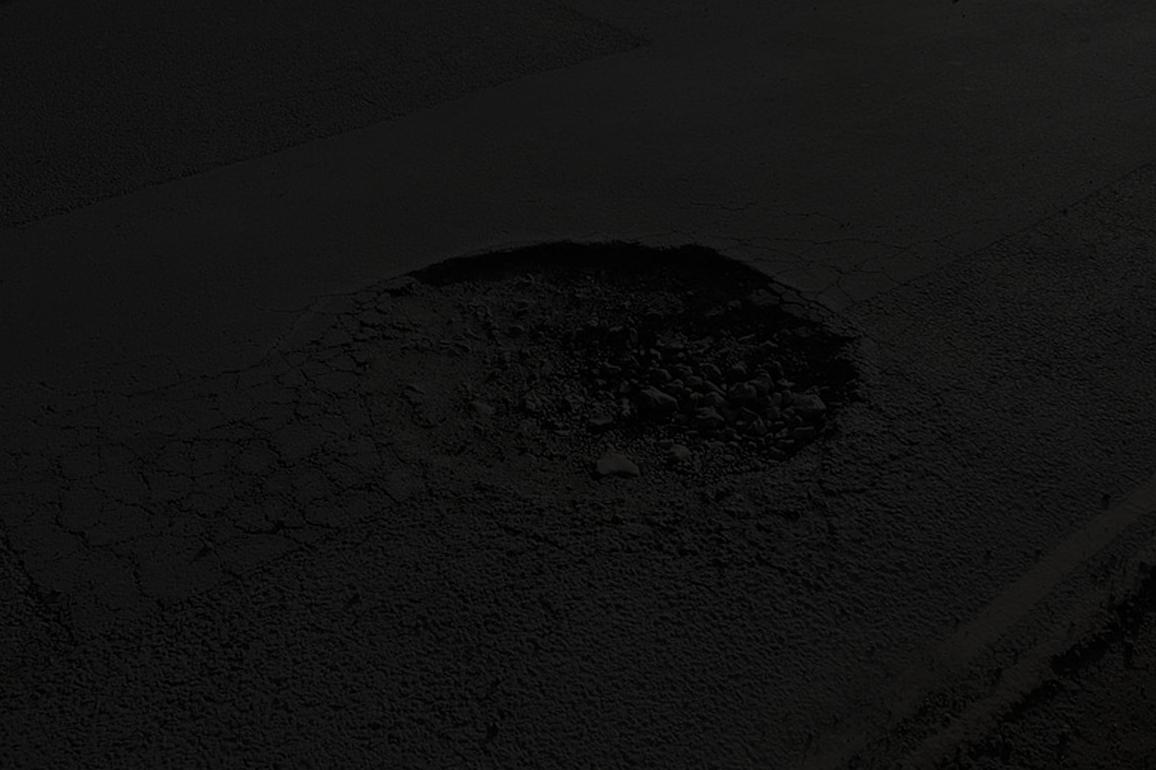pothole: (249, 186, 914, 536)
